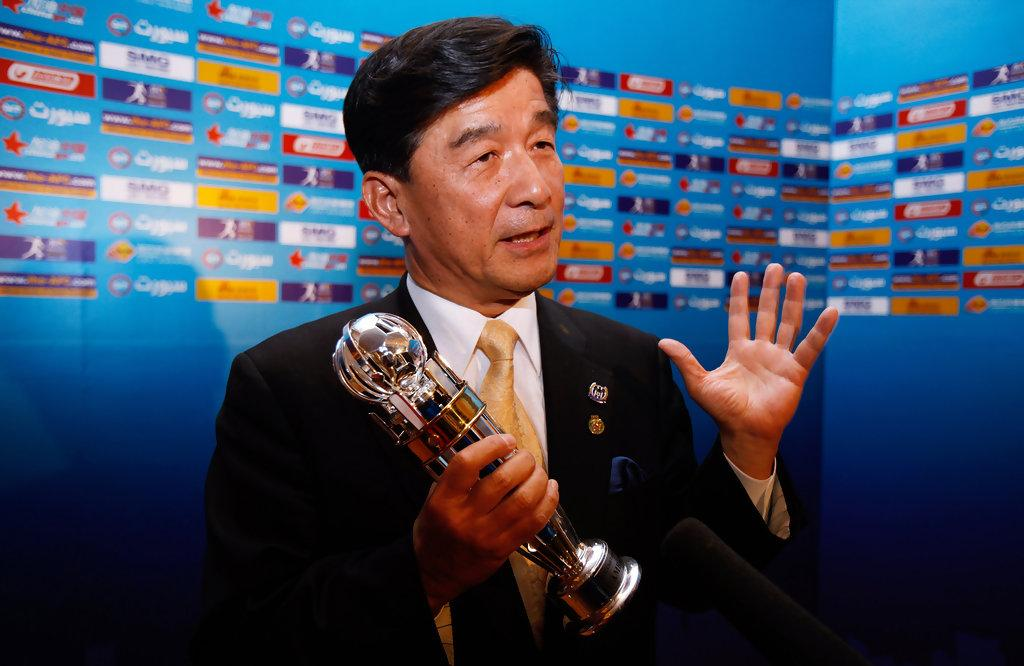face: (408, 68, 564, 288)
